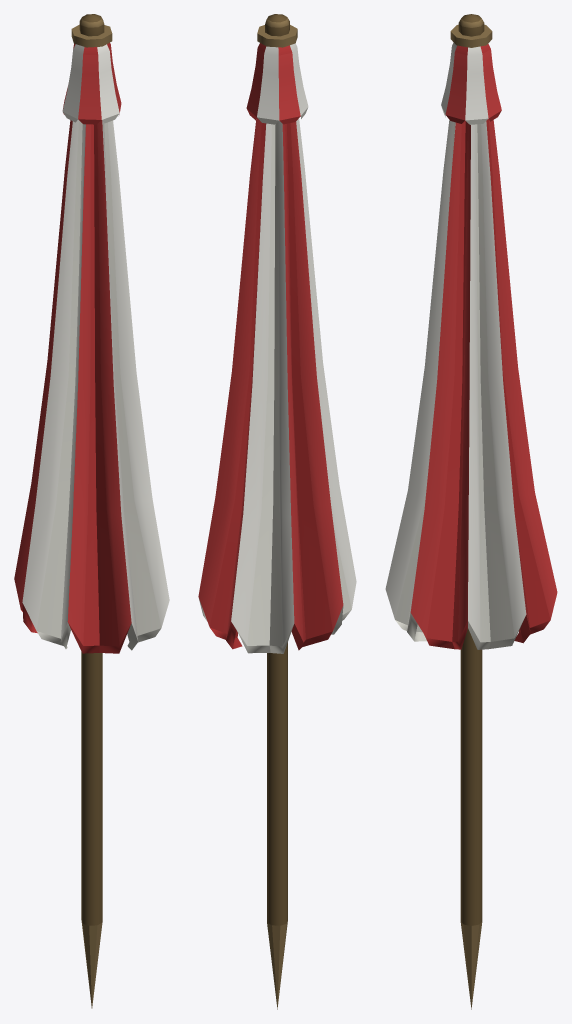
File: umbrellaFolded.fbx
The picture shows the model from 3 angles, left to right: view 1: azimuth 30°, elevation 25°; view 2: azimuth 150°, elevation 25°; view 3: azimuth 270°, elevation 25°; orthographic projection.
Visible parts, largest first — view 1: foldedUmbrella; view 2: foldedUmbrella; view 3: foldedUmbrella.
Part boxes in pixels (x1,y1,x2,y2): foldedUmbrella: [14, 14, 169, 1008]; foldedUmbrella: [198, 14, 356, 1009]; foldedUmbrella: [385, 14, 557, 1009].
Bounding box in the file's own units: 42.79 × 300 × 47.05.
